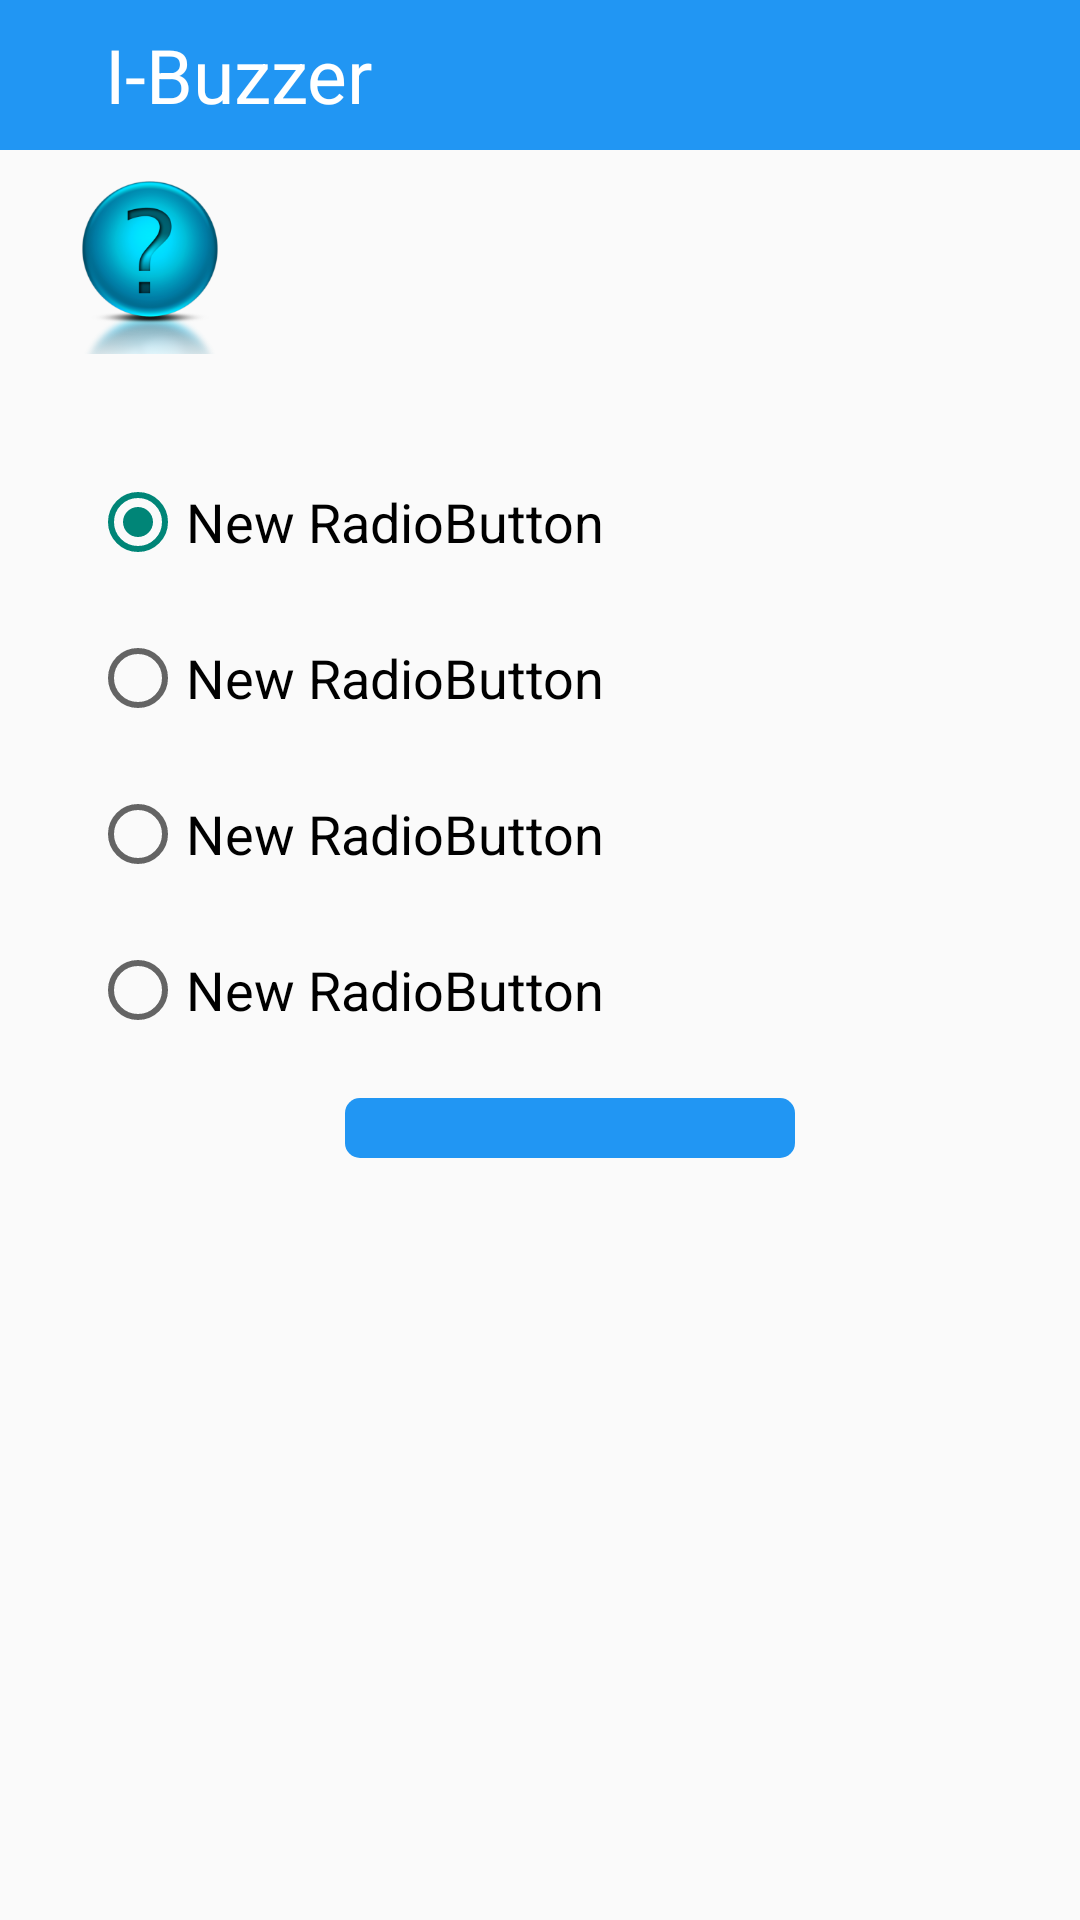

Screen size 1080w x 1920h. Icon name, then its box in pixels as bbox(x1, y1, x2, y2):
questionicon: bbox(82, 181, 218, 354)
